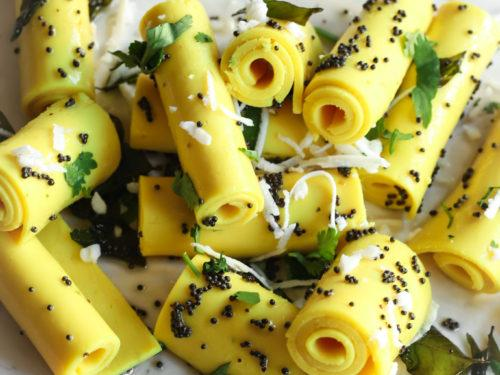khandvi: (0, 2, 500, 372)
